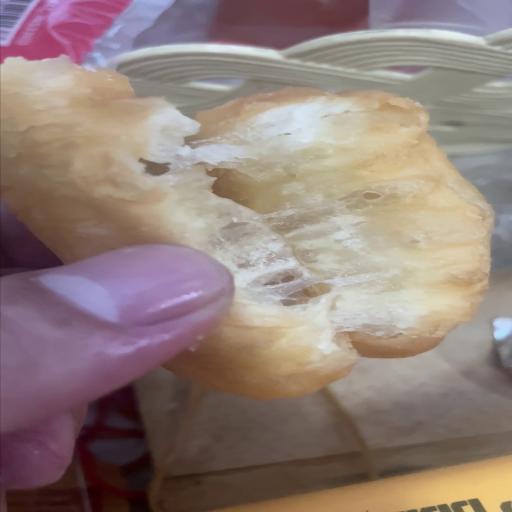street_golden_defect: (0, 82, 491, 400)
